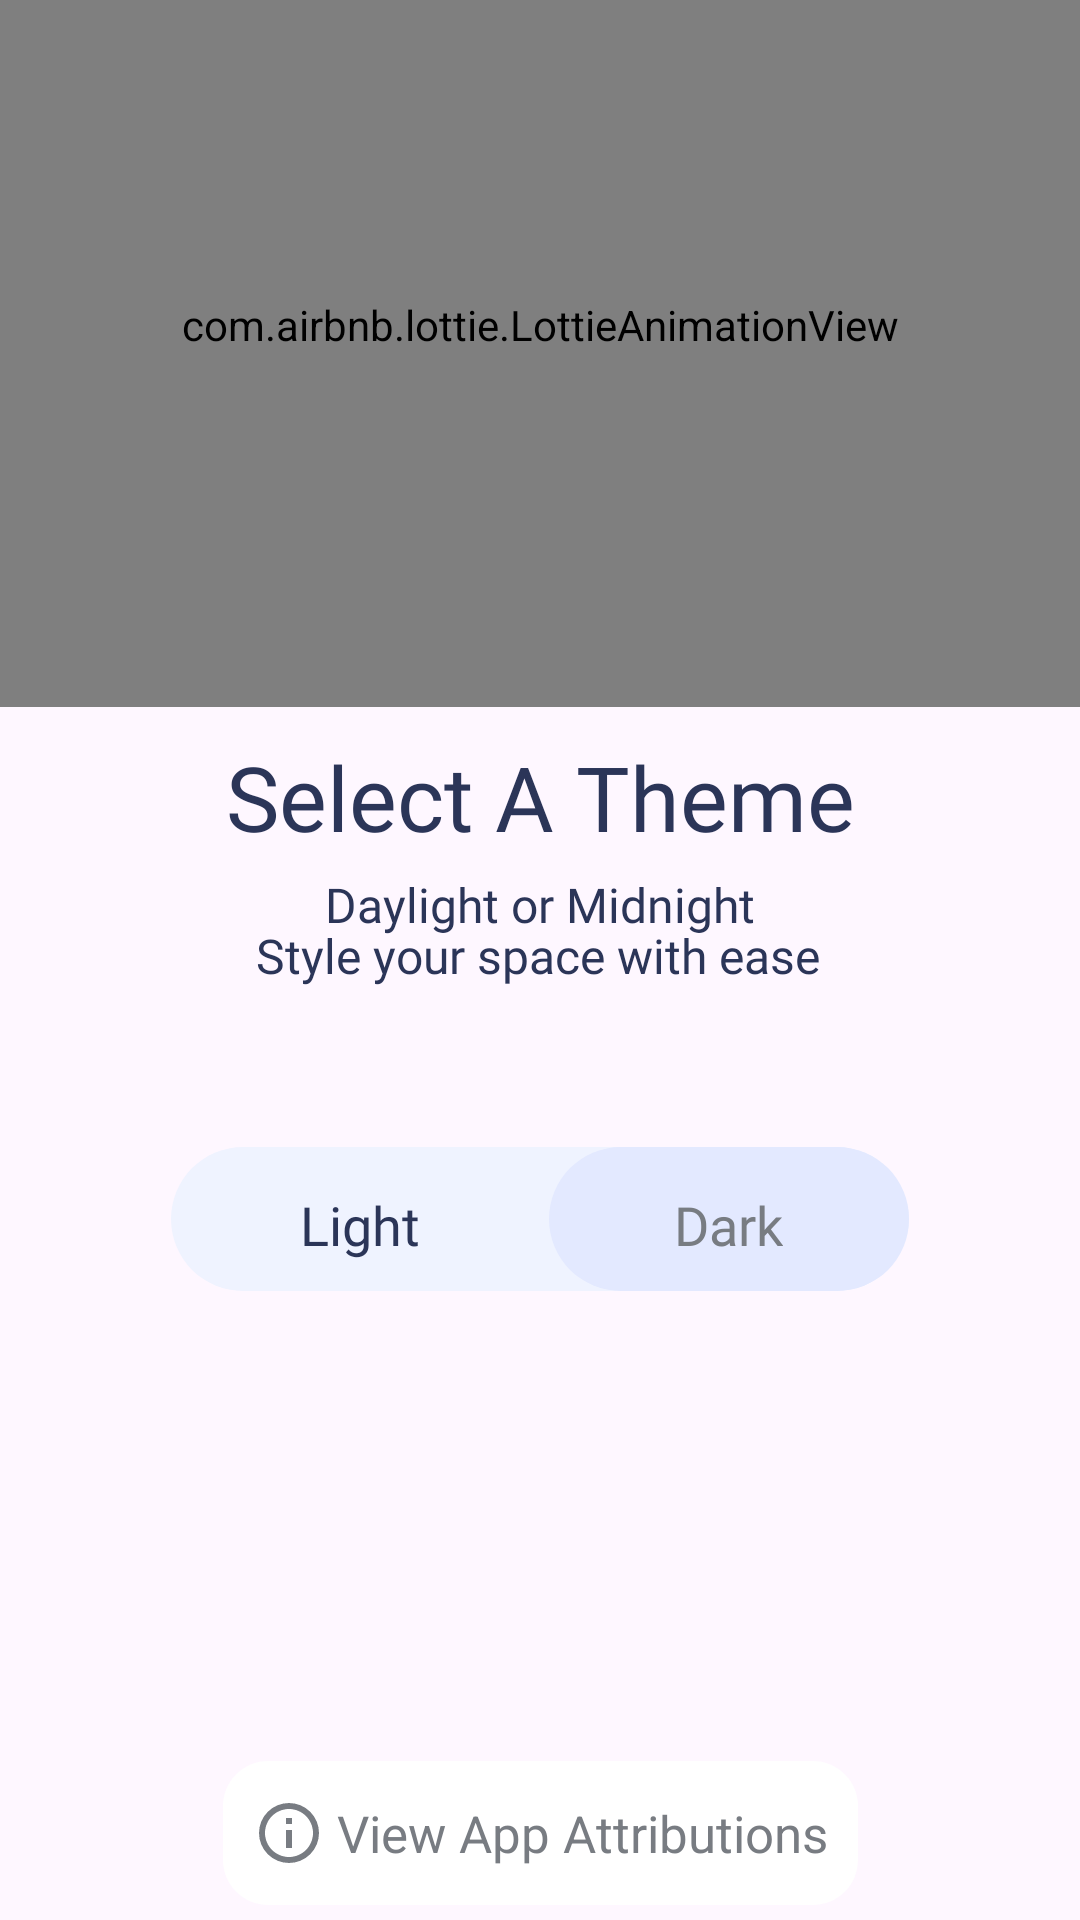

Icons on this 1080x1920 Android screen, each with the point to tap as point (x, y):
info: point (289, 1833)
